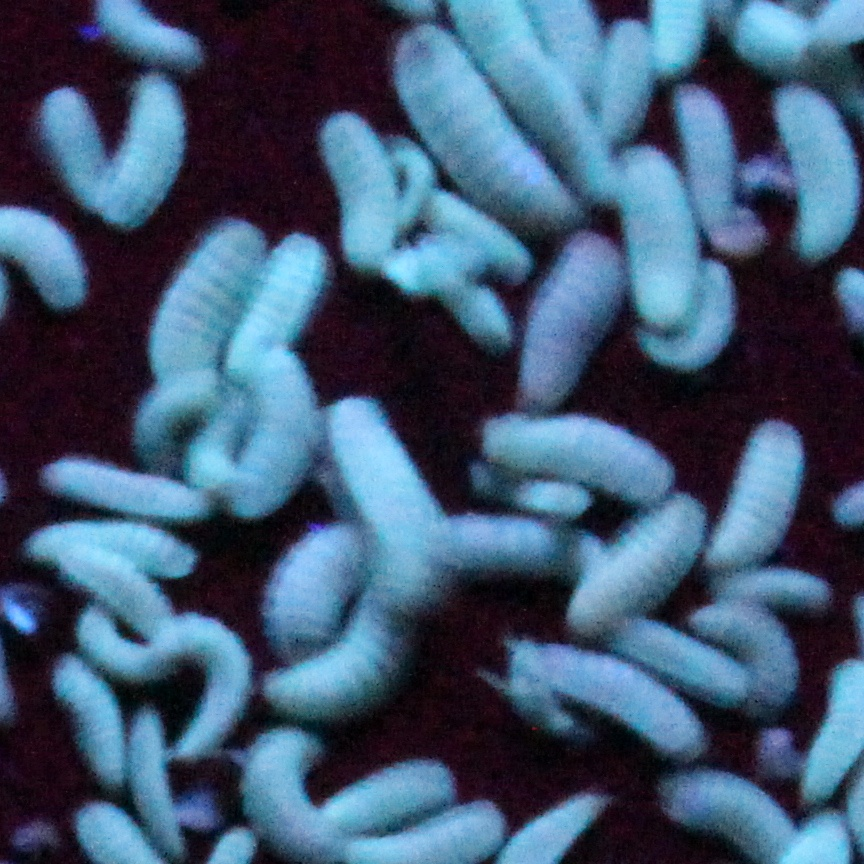larve: (371, 19, 577, 226), (323, 390, 454, 621), (507, 627, 710, 767), (510, 230, 632, 419), (142, 216, 253, 396), (221, 220, 335, 392), (565, 490, 707, 628), (470, 413, 685, 501), (767, 74, 863, 261), (706, 413, 815, 576), (309, 98, 409, 273), (664, 73, 758, 251), (251, 604, 396, 715), (235, 338, 322, 513), (33, 450, 219, 530), (91, 67, 184, 226), (651, 773, 815, 858), (43, 652, 134, 785), (261, 505, 347, 643), (162, 612, 245, 750), (34, 512, 196, 575), (37, 93, 120, 209), (59, 551, 169, 621), (78, 617, 162, 677)
